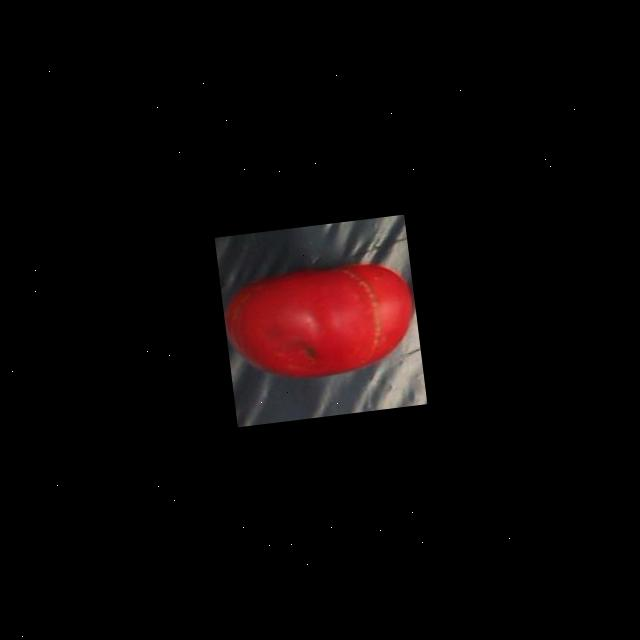tomato: (218, 247, 422, 398)
